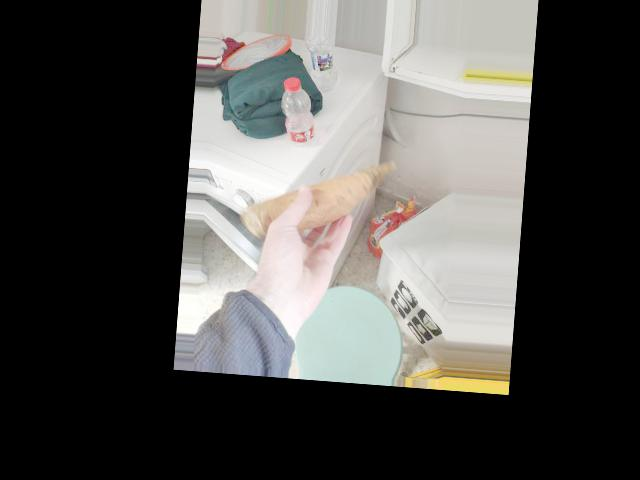sweet_potato: (250, 160, 361, 242)
